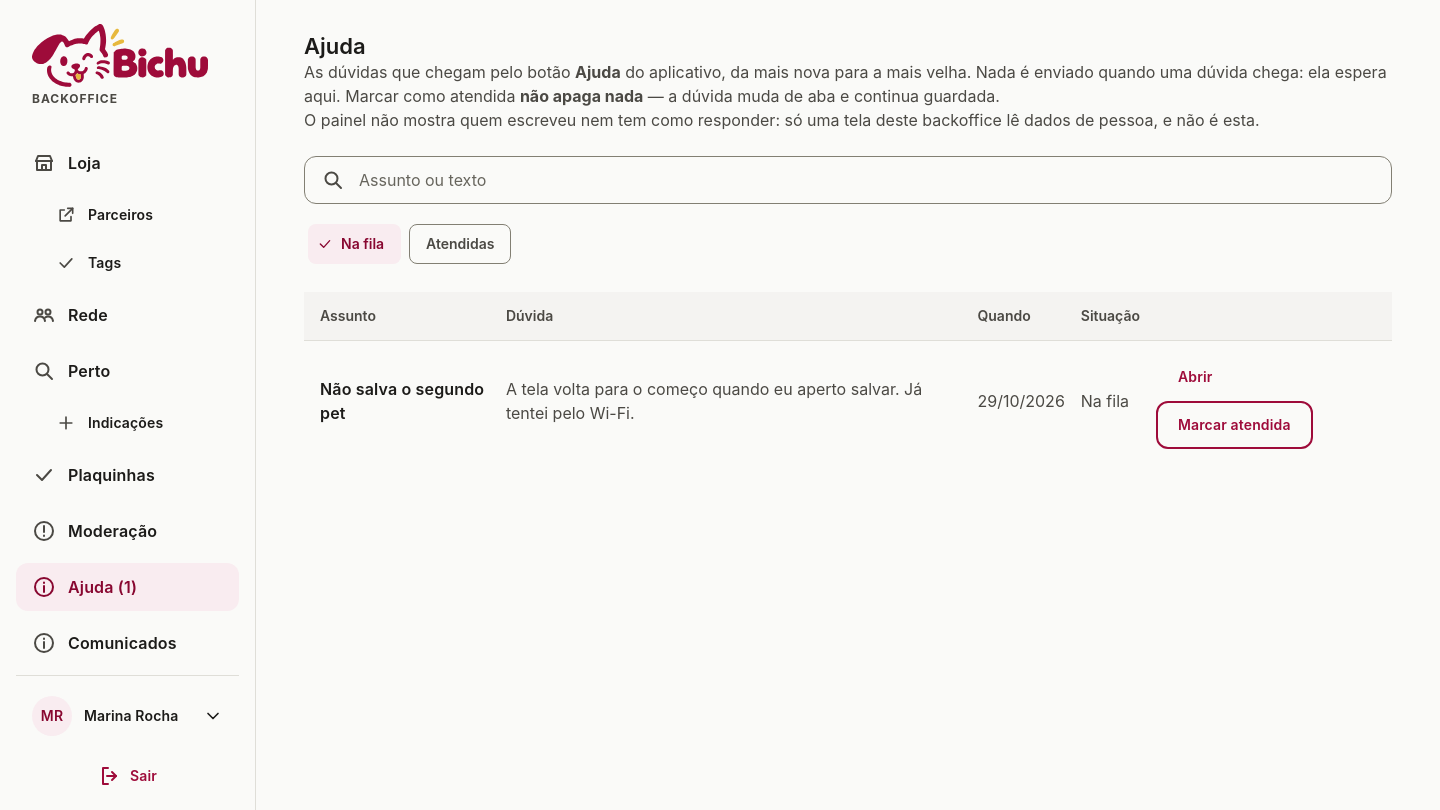
it: `Ajuda` — a fila de dúvidas no painel › a busca é local e o vazio dela diz que o recorte é da PÁGINA
Check: the text "Não salva o segundo pet" is shown, box top-left (320, 379), bottom-right (484, 423)
Type "plaquinha" into the search field named "Buscar dúvida" at (868,180), box top-left (357, 167), bottom-right (1379, 193)
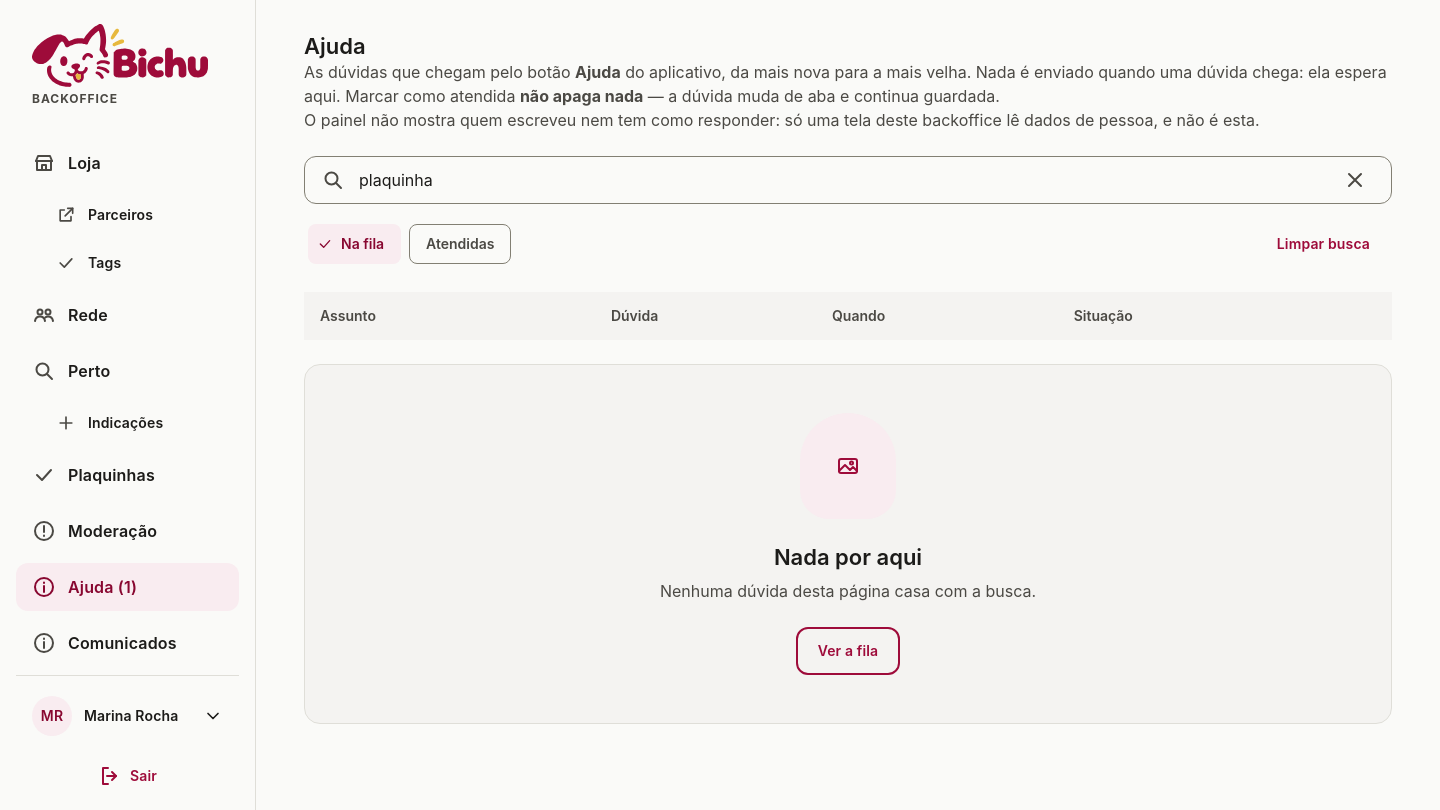
Check: the text "Nenhuma dúvida desta página casa com a busca." is shown, box top-left (660, 579), bottom-right (1036, 603)
